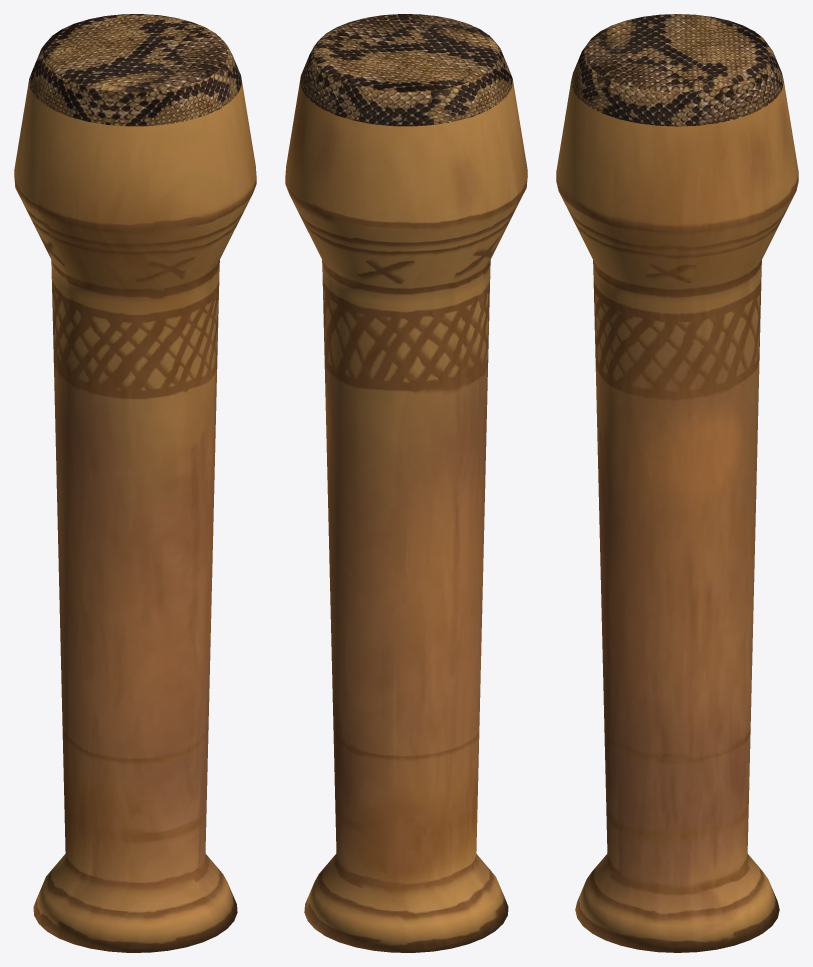
The model's file is HeroMonkey.glb.
3 views of the same model, side by side, from view 1: azimuth 30°, elevation 25°; view 2: azimuth 150°, elevation 25°; view 3: azimuth 270°, elevation 25° (orthographic).
Parts seen in each view (by area): view 1: LongDrum; view 2: LongDrum; view 3: LongDrum.
Part boxes in pixels (x1=…): LongDrum: x1=14, y1=14, x2=256, y2=952; LongDrum: x1=285, y1=14, x2=527, y2=952; LongDrum: x1=556, y1=14, x2=798, y2=952.
Bounding box in the file's own units: 2.1 × 8.21 × 2.1.
1 material, 1 textured.
